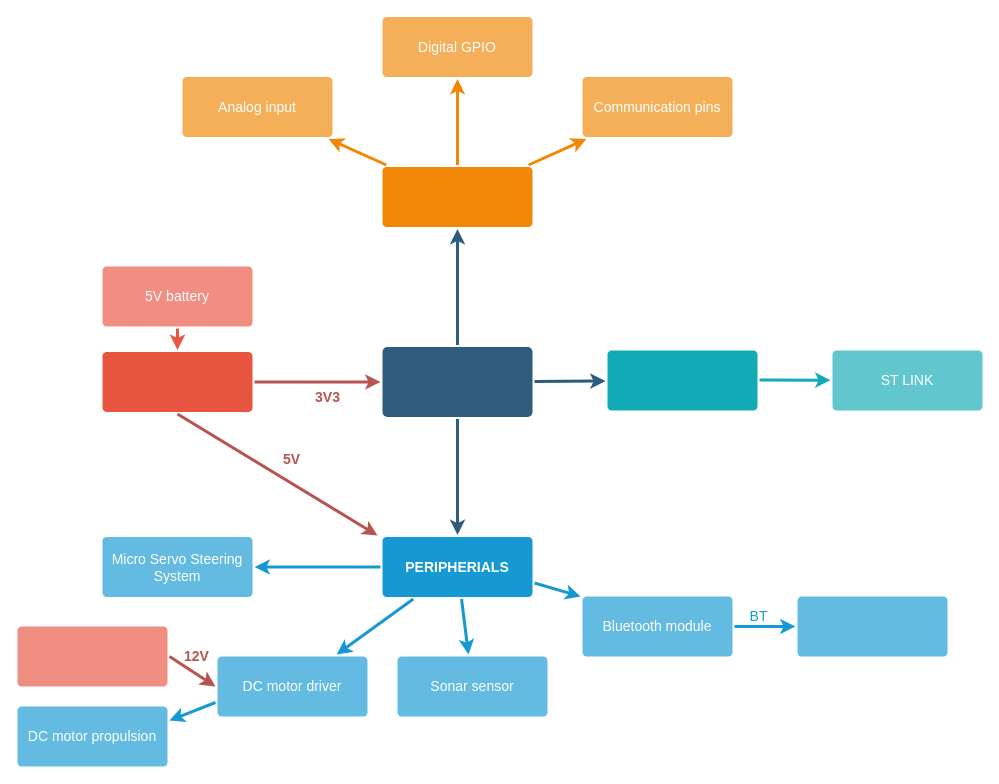
The diagram is 999 pixels wide and 784 high, and some of its shapes have lost their labels. Each missing label, with the box of its shape:
12V battery: (17, 626, 167, 686)
Android Application Remote Controller: (797, 596, 947, 656)
MCU: (382, 346, 532, 416)
POWER SUPPLY: (102, 352, 252, 412)
PROGRAMMING CONNECTOR: (607, 350, 757, 410)
UNUSED PINS: (382, 166, 532, 226)
